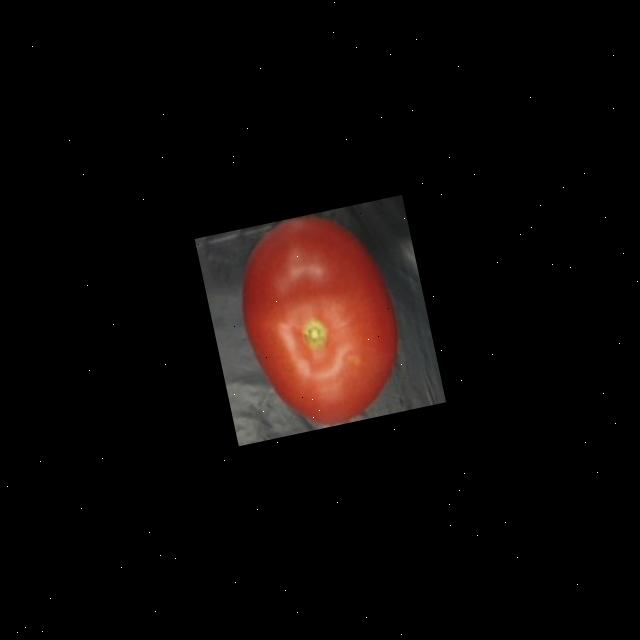tomato: (220, 200, 420, 440)
